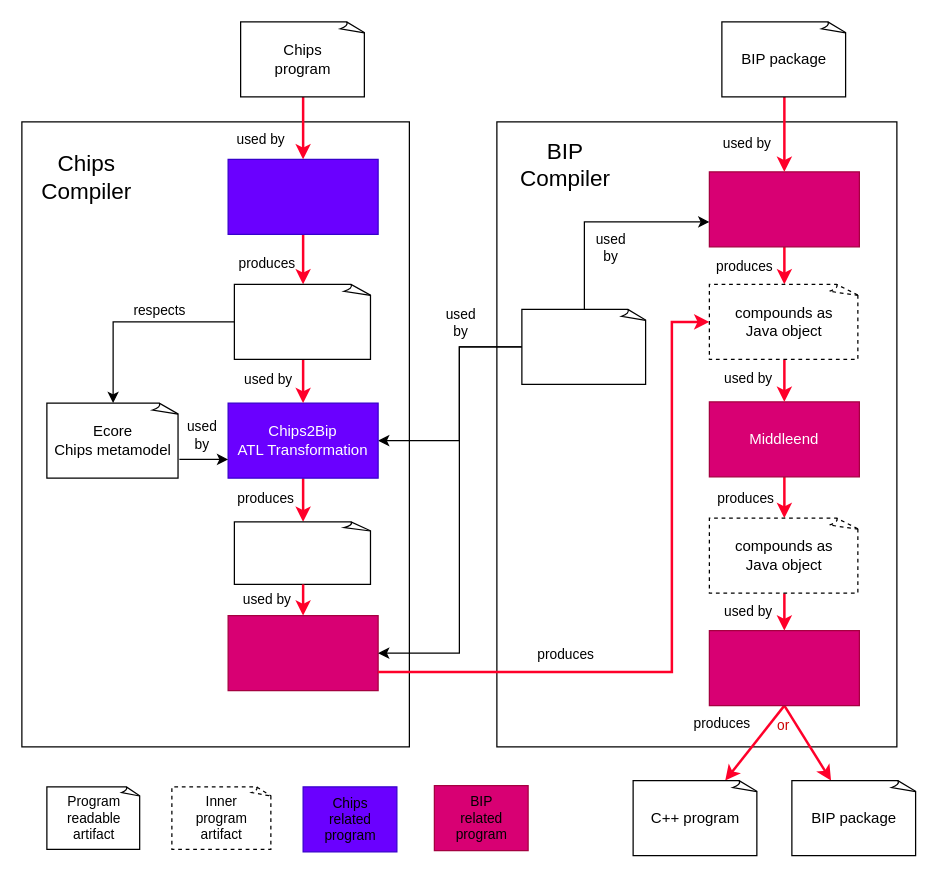
Image size: 939x878. Some labels were removed from this diagram. The shapes that lost their labels are listed below. From the top down, each one's centre as x and y in pixels, then its label:
At point (302, 196): "Chips Parser".
At point (783, 209): "Frontend".
At point (302, 321): "XMI model of a Chips program".
At point (584, 346): "Ecore BIP metamodel".
At point (302, 552): "XMI model of a BIP package".
At point (302, 652): "Adapted Frontend".
At point (783, 667): "Backend".
